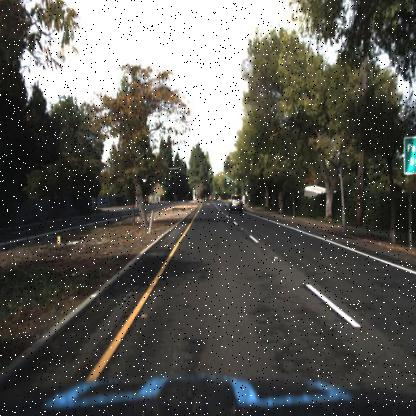car: (230, 192, 244, 214)
trafficLight-Green: (209, 170, 214, 182), (234, 180, 238, 193)
